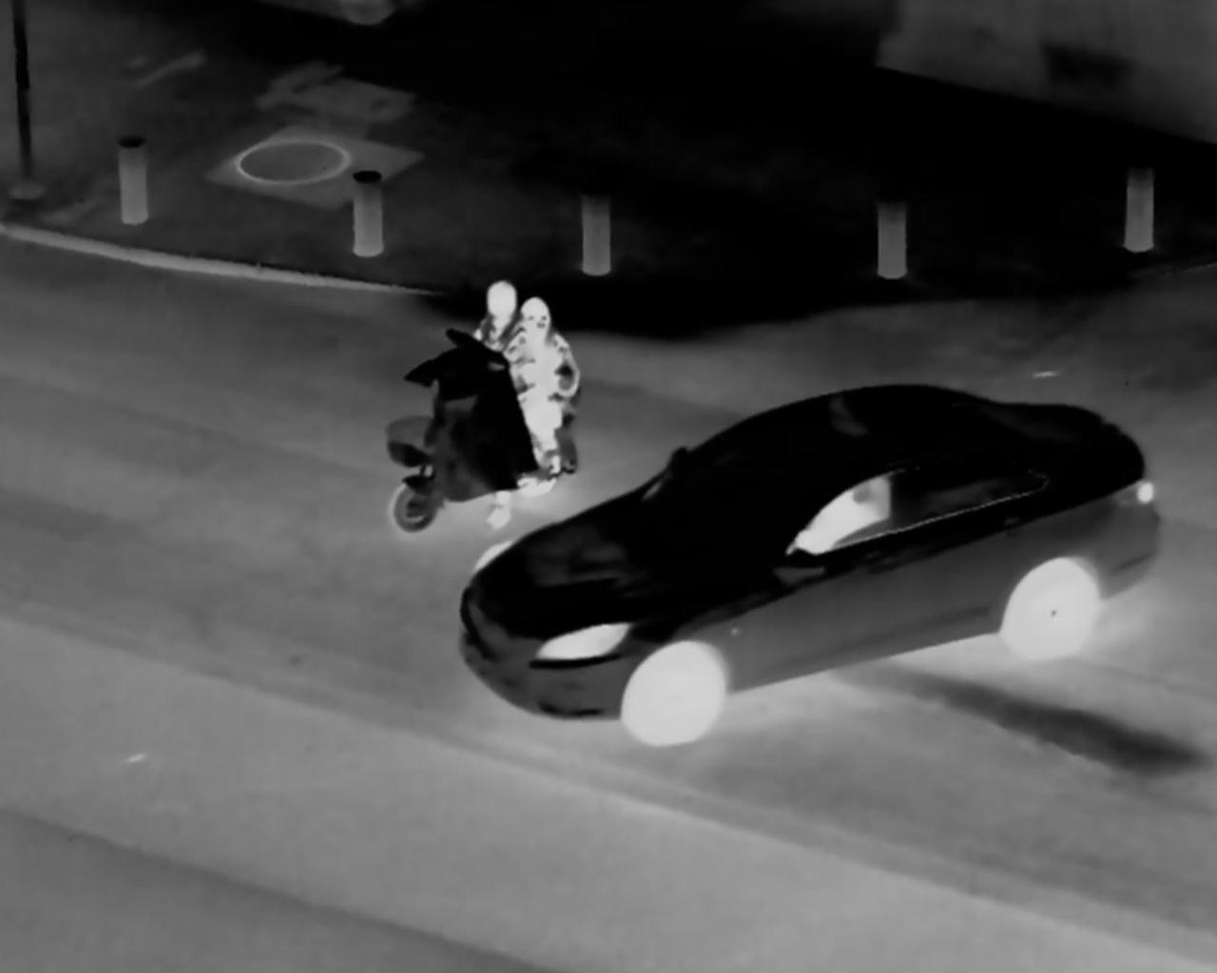person: (452, 280, 521, 527), (506, 293, 583, 491)
